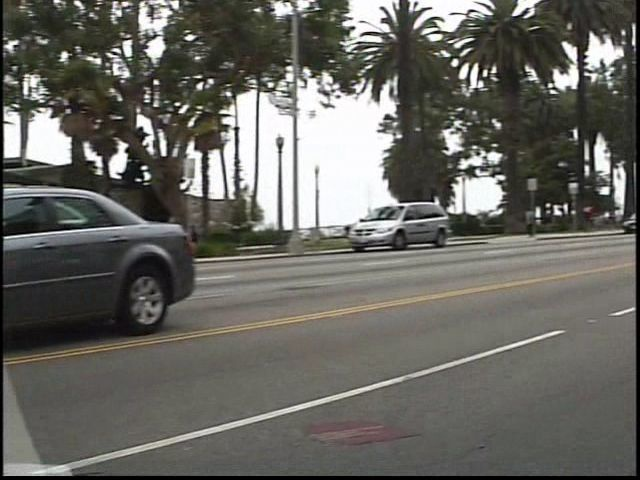person: (530, 201, 551, 240)
